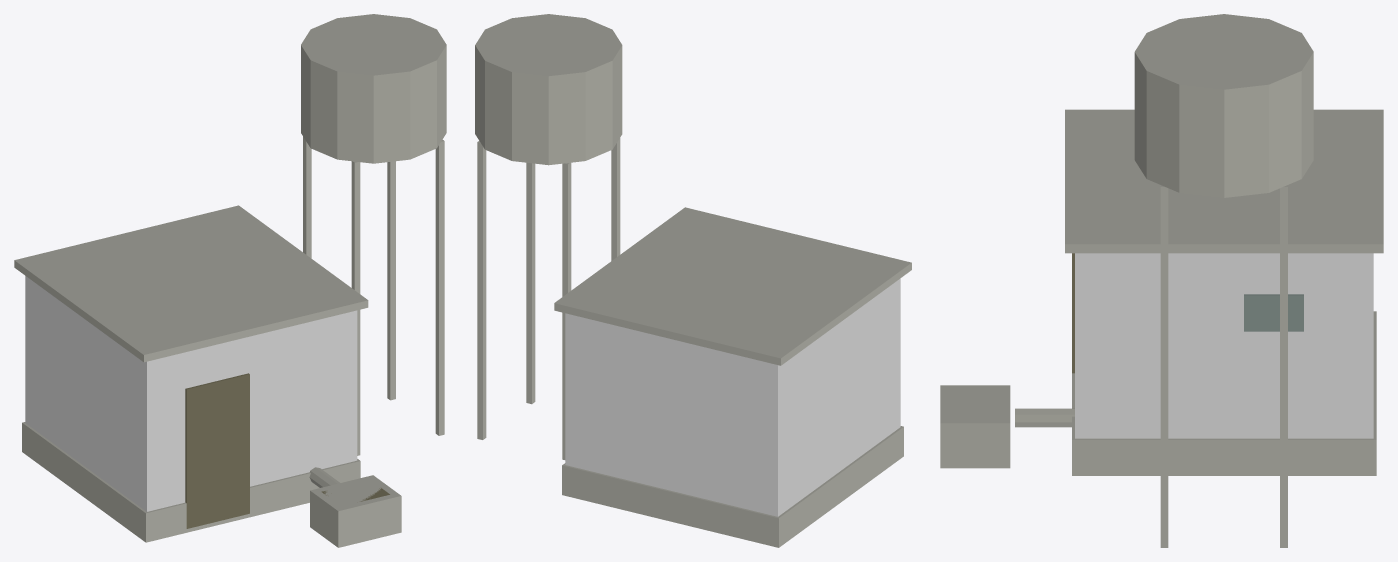
Rendered from SM_CasetaPozo_v4_Deposito_LOD0.fbx.
The picture shows the model from 3 angles, left to right: view 1: azimuth 30°, elevation 25°; view 2: azimuth 150°, elevation 25°; view 3: azimuth 270°, elevation 25°; orthographic projection. The views are drawn at different scales.
Parts seen in each view (by area): view 1: SM_huerta_nules_v4_LOD0; view 2: SM_huerta_nules_v4_LOD0; view 3: SM_huerta_nules_v4_LOD0.
Part boxes in pixels (box(x1,y1,x2,y2)): SM_huerta_nules_v4_LOD0: box(14, 14, 446, 547); SM_huerta_nules_v4_LOD0: box(475, 14, 911, 547); SM_huerta_nules_v4_LOD0: box(940, 14, 1383, 547).
Bounding box in the file's own units: 5.1 × 5.2 × 4.45.
